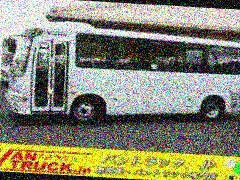bus: (11, 9, 240, 130)
